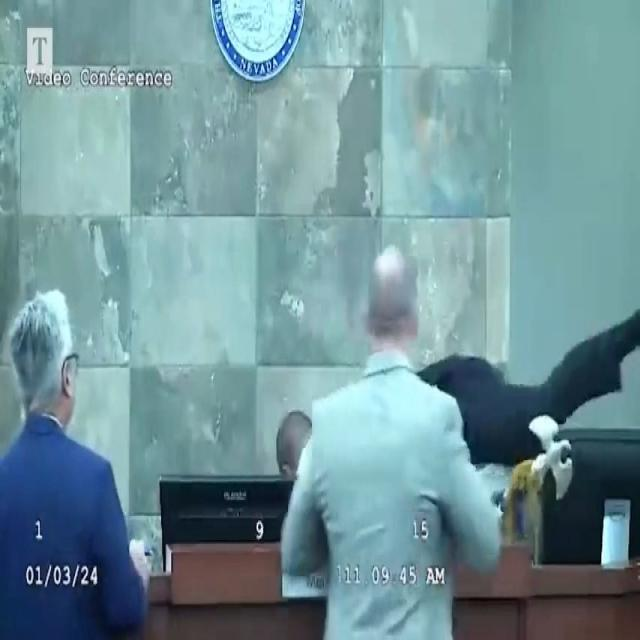fight: (266, 233, 640, 640)
non-fight: (281, 243, 508, 640), (0, 277, 150, 640)
